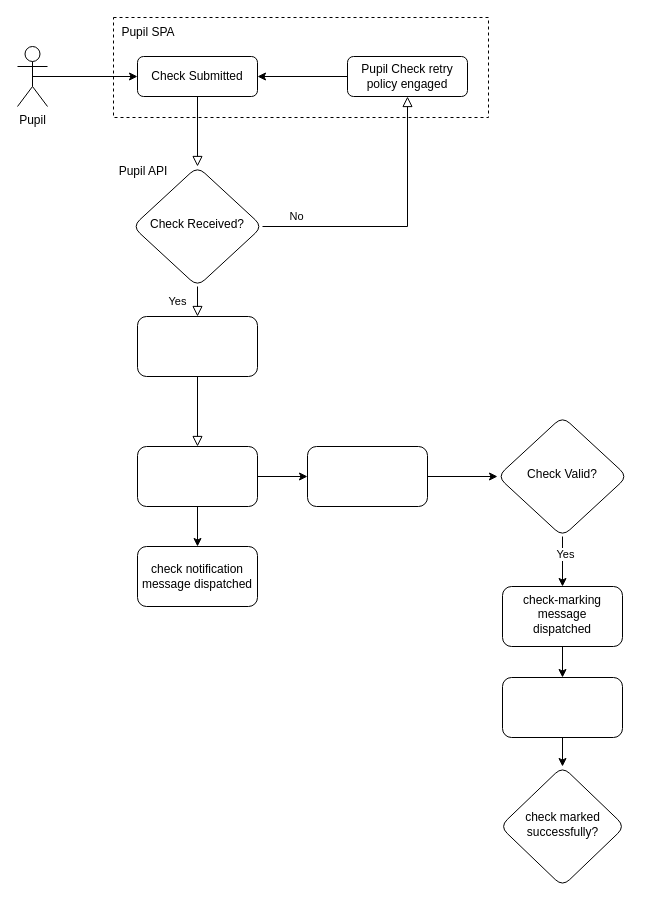
Some shapes in this 645 by 904 pixel diagram are drawn without their labels. Here are the shapes that lost their labels. From the top down, the box of each, then its label:
(136, 316, 258, 376): check-submission message dispatched
(136, 446, 258, 506): Payload persisted in receivedCheck table
(306, 446, 428, 506): check validation message dispatched
(502, 676, 622, 738): check marked
